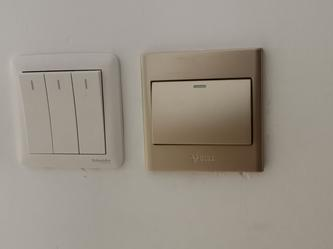switch: (142, 72, 259, 151), (42, 69, 82, 158), (18, 68, 55, 159), (70, 67, 107, 156)
